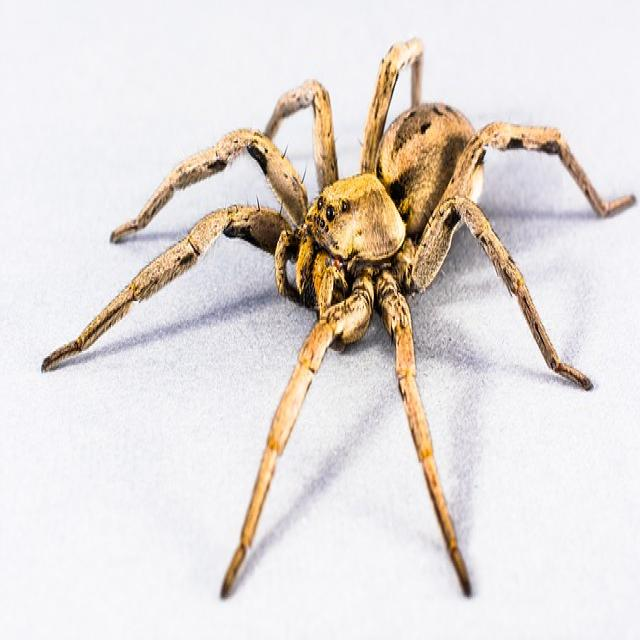spyder: (42, 39, 634, 596)
